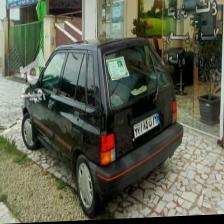plate: (133, 111, 160, 140)
